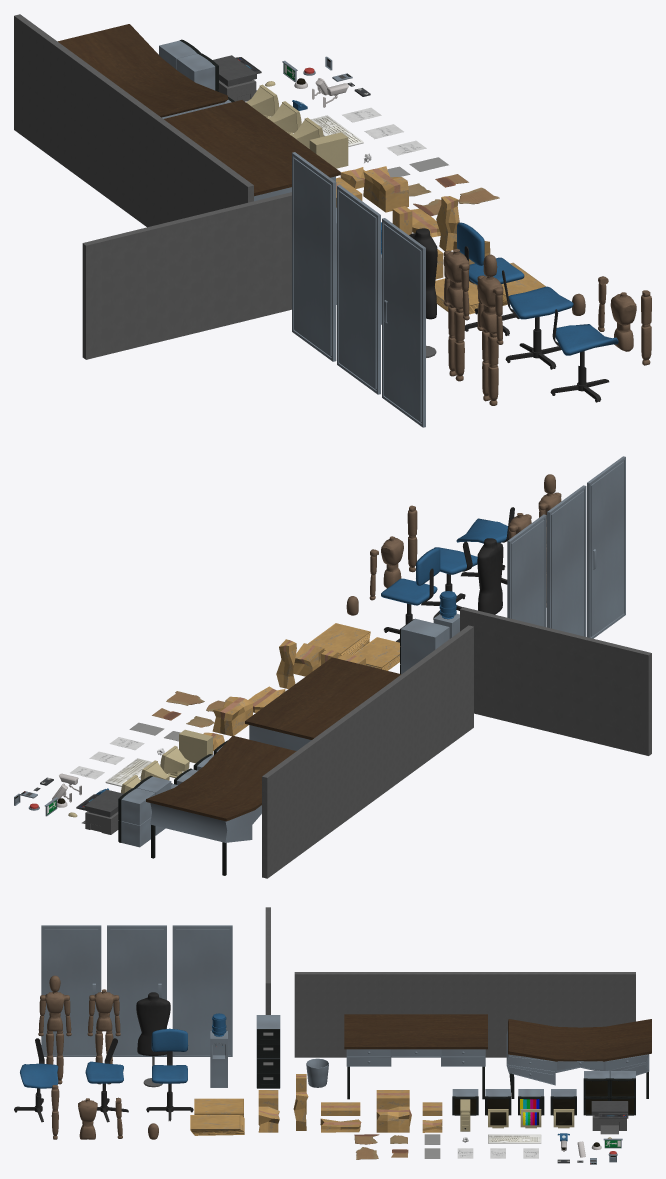
The model's file is Backrooms_Vol2.obj.
3 renders of one model, top to bottom at view 1: azimuth 30°, elevation 25°; view 2: azimuth 150°, elevation 25°; view 3: azimuth 270°, elevation 25°, orthographic. The views are drawn at different scales.
Parts seen in each view (by area): view 1: Vertical_Office_Partition, Horizontal_Office_Partition, Door_Without_Handle, Door, Door_Single_Handle, Office_Table, Broken_Office_Table, Standing_Mannequin, Headless_Standing_Mannequin, Broken_Office_Chair_1, Broken_Office_Chair_2, Office_Chair (+12 smaller); view 2: Horizontal_Office_Partition, Vertical_Office_Partition, Broken_Office_Table, Office_Table, Door, Door_Single_Handle, Door_Without_Handle, Quadro_CCTV_Monitor, Office_Chair, Half_Mannequin, Filing_Cabinet, Printer (+13 smaller); view 3: Horizontal_Office_Partition, Broken_Office_Table, Office_Table, Door_Without_Handle, Door, Door_Single_Handle, Office_Chair, Standing_Mannequin, Quadro_CCTV_Monitor, Half_Mannequin, Headless_Standing_Mannequin, Broken_Office_Chair_2 (+24 smaller).
Part boxes in pixels (box(x1,y1,x2,y2)): Vertical_Office_Partition: box(82, 192, 291, 359); Horizontal_Office_Partition: box(14, 14, 253, 227); Door_Without_Handle: box(292, 152, 336, 361); Door: box(382, 218, 425, 427); Door_Single_Handle: box(337, 185, 380, 394); Office_Table: box(164, 100, 340, 201); Broken_Office_Table: box(58, 24, 228, 118); Standing_Mannequin: box(477, 254, 503, 405); Headless_Standing_Mannequin: box(443, 249, 469, 381); Broken_Office_Chair_1: box(502, 270, 573, 369); Broken_Office_Chair_2: box(550, 309, 618, 402); Office_Chair: box(457, 222, 524, 335); Horizontal_Office_Partition: box(262, 625, 473, 878); Vertical_Office_Partition: box(460, 607, 651, 755); Broken_Office_Table: box(146, 735, 296, 875); Office_Table: box(245, 657, 400, 750); Door: box(587, 456, 625, 638); Door_Single_Handle: box(547, 485, 586, 636); Door_Without_Handle: box(507, 514, 546, 627); Quadro_CCTV_Monitor: box(118, 775, 171, 847); Office_Chair: box(381, 547, 440, 642); Half_Mannequin: box(477, 538, 503, 614); Filing_Cabinet: box(401, 618, 449, 674); Printer: box(76, 789, 123, 834); Horizontal_Office_Partition: box(294, 972, 635, 1057); Broken_Office_Table: box(506, 1019, 651, 1098); Office_Table: box(344, 1014, 487, 1099); Door_Without_Handle: box(172, 925, 232, 1056); Door: box(41, 925, 101, 1056); Door_Single_Handle: box(107, 925, 166, 1056); Office_Chair: box(146, 1028, 193, 1121); Standing_Mannequin: box(38, 975, 71, 1084); Quadro_CCTV_Monitor: box(583, 1071, 635, 1115); Half_Mannequin: box(136, 992, 170, 1087); Headless_Standing_Mannequin: box(87, 989, 120, 1084); Broken_Office_Chair_2: box(14, 1038, 58, 1122).
Bounding box in the file's own units: 6.27 × 2.26 × 9.72.
2 materials, 2 textured.
